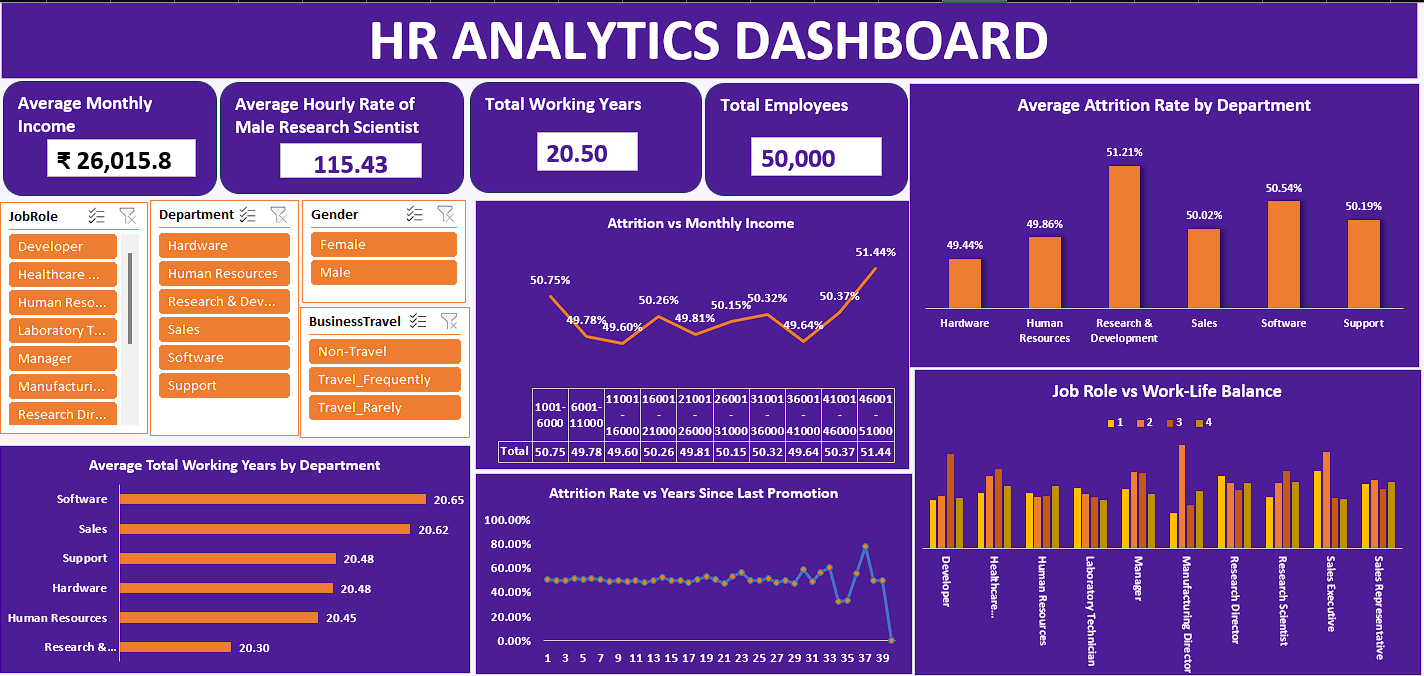

The page's visual inventory and layout, read from the dashboard file:
{"tool":"tableau","page":{"name":"HR ANALYTICS DASBOARD","canvas":[1000,1000],"units":"permille","ordinal":0},"visuals":[{"type":"text","box":[11.7,10.4,986.4,65.6]},{"type":"image","param":"Image/Screenshot_17-2-2025_152133_.jpeg","box":[51.5,12.5,37.9,58.3]},{"type":"worksheet","title":"KPI","mark":"Automatic","box":[10.5,83.3,703.7,164.6]},{"type":"worksheet","title":"Attrition by Gender","mark":"Automatic","rows":["Gender"],"cols":["Calculation_1003885647974400","Calculation_1003885647974400"],"box":[722.2,83.3,275.9,271.9]},{"type":"worksheet","title":"Sheet 3","mark":"Bar","rows":["TotalWorkingYears"],"cols":["Department"],"box":[370.4,257.3,343.2,329.2]},{"type":"worksheet","title":"Sheet 6","mark":"Automatic","rows":["Department"],"cols":["Calculation_1003885648629761"],"box":[10.5,258.3,352.5,328.1]},{"type":"worksheet","title":"Sheet 4","mark":"Bar","rows":["HourlyRate"],"box":[722.8,364.6,274.1,253.1]},{"type":"worksheet","title":"Sheet 7","mark":"Automatic","rows":["JobRole"],"cols":["WorkLifeBalance"],"box":[370.2,603.1,343,287.5]},{"type":"worksheet","title":"Sheet 5","mark":"Square","rows":["Calculation_1003885648629761"],"cols":["MonthlyIncome"],"box":[10.4,607.3,352.8,285.4]},{"type":"worksheet","title":"Sheet 8","mark":"Line","rows":["Calculation_1003885648629761"],"cols":["YearsSinceLastPromotion"],"box":[721.5,635.4,274.2,252.1]}]}

Visuals, with their boxes on the dashboard's canvas, which has no fixed pixel size, in thousandths of its width and height (x1, y1, x2, y2). These are canvas units, not pixel positions in the 1424x676 screenshot, which may show the page scaled, cropped or inside an application window:
text: 12,10,998,76
image: 52,12,89,71
"KPI" worksheet: 10,83,714,248
"Attrition by Gender" worksheet: 722,83,998,355
"Sheet 3" worksheet (Bar marks): 370,257,714,586
"Sheet 6" worksheet: 10,258,363,586
"Sheet 4" worksheet (Bar marks): 723,365,997,618
"Sheet 7" worksheet: 370,603,713,891
"Sheet 5" worksheet (Square marks): 10,607,363,893
"Sheet 8" worksheet (Line marks): 722,635,996,888
